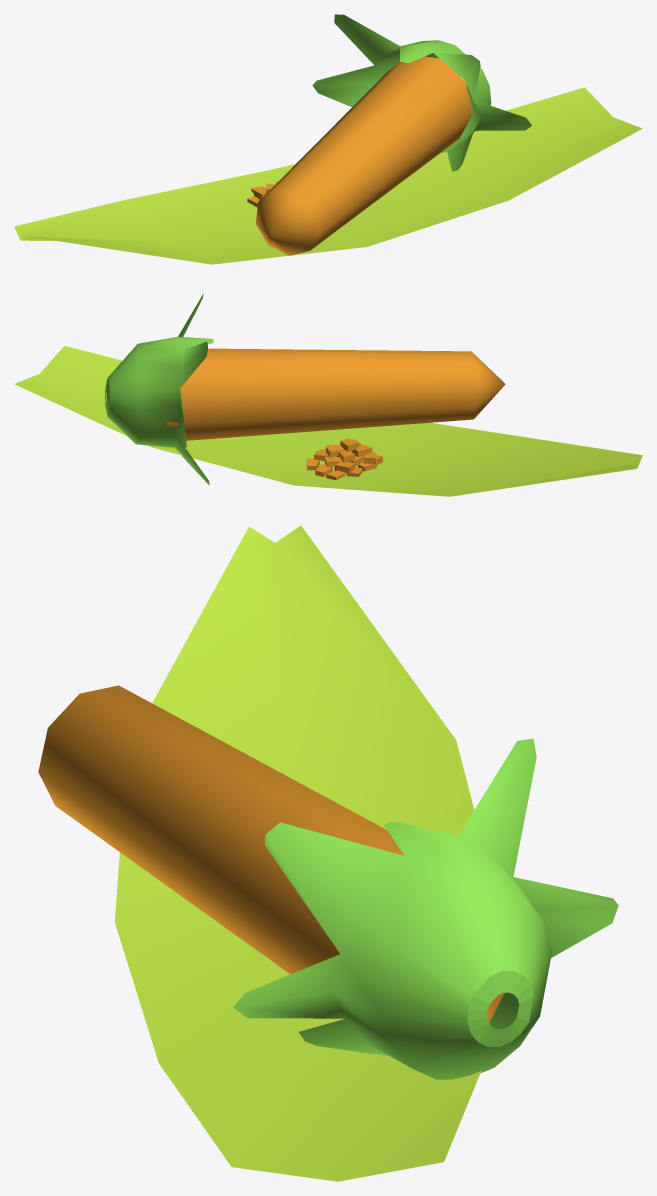
The model's file is CornCollectible 1.FBX.
3 renders of one model, top to bottom at view 1: azimuth 30°, elevation 25°; view 2: azimuth 150°, elevation 25°; view 3: azimuth 270°, elevation 25°, orthographic. The views are drawn at different scales.
Parts seen in each view (by area): view 1: CornCollectible; view 2: CornCollectible; view 3: CornCollectible.
Part boxes in pixels (x1,y1,x2,y2): CornCollectible: [14, 14, 642, 264]; CornCollectible: [14, 294, 642, 496]; CornCollectible: [38, 525, 618, 1181].
Size of the model in its own units: 17.15 by 4.18 by 7.39.
